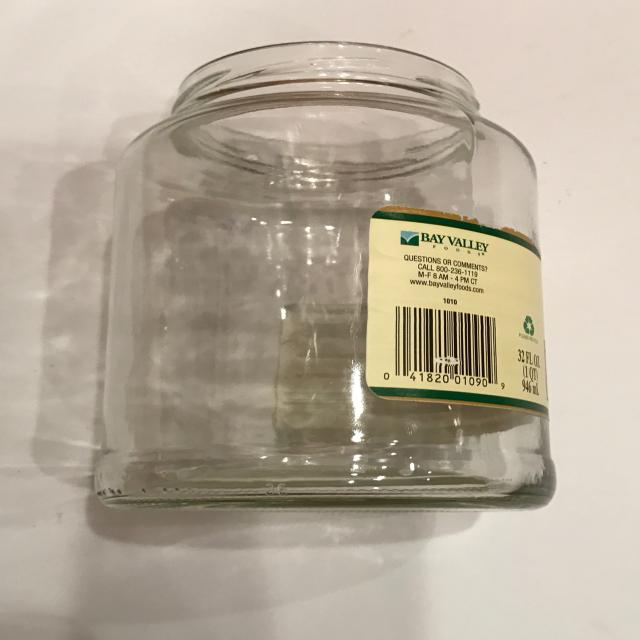glass: (92, 40, 557, 511)
